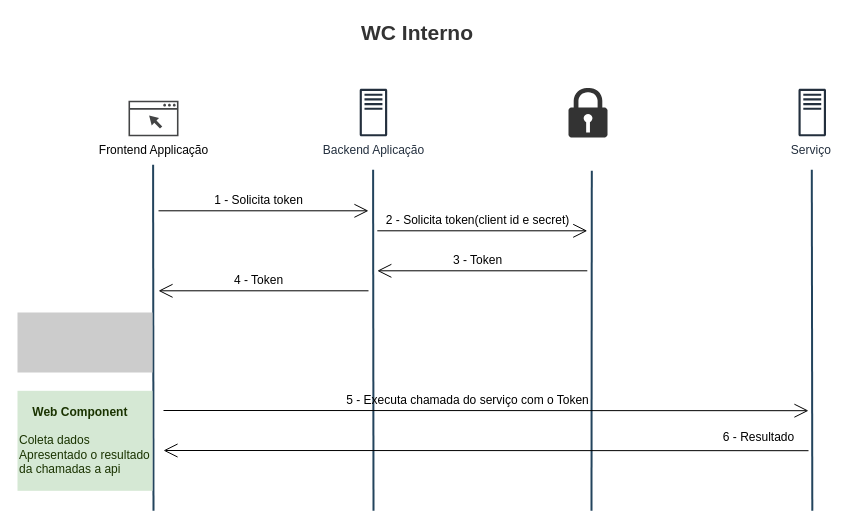
This 851x530 diagram has some shape labels left out. Each missing label, with the box of its shape:
Inicializa o Web Component exertando o token: (17, 312, 152, 372)
RH SSO: (568, 87, 607, 137)
